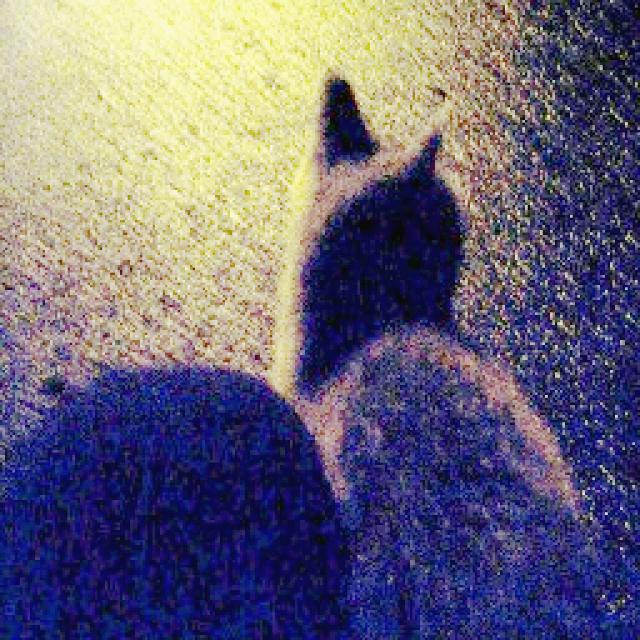cat: (270, 65, 478, 398)
